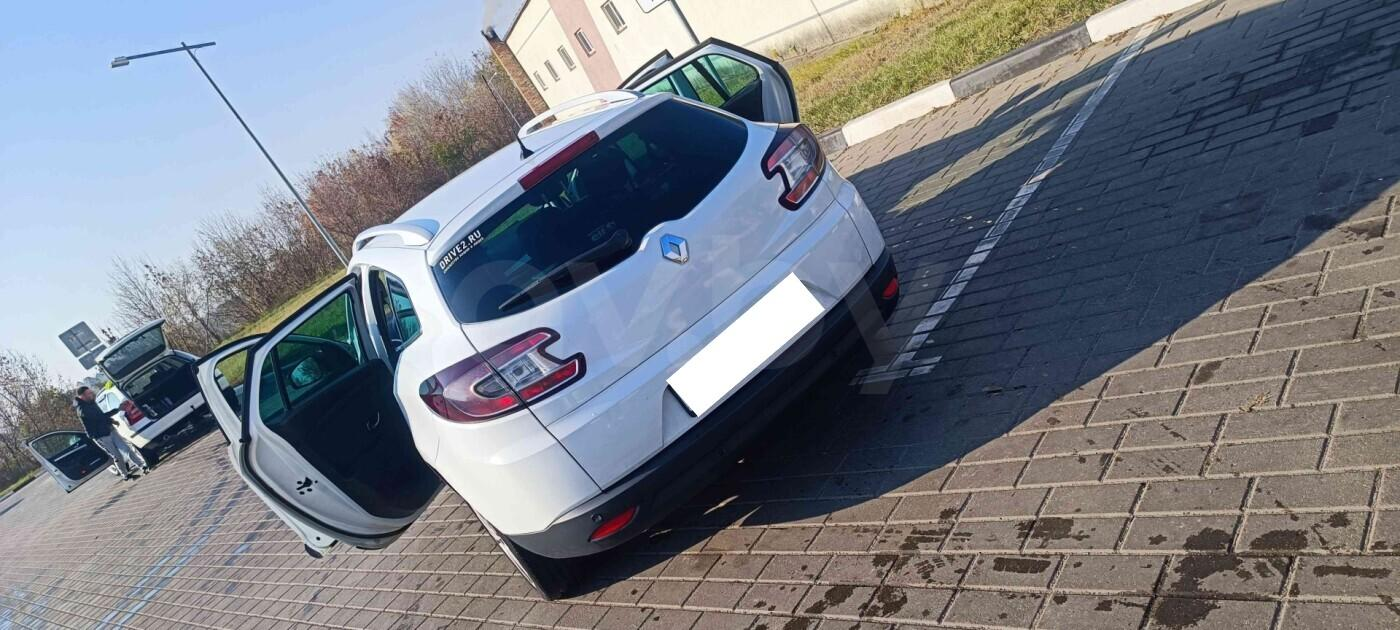Megane_2008-2014: (299, 102, 905, 595)
